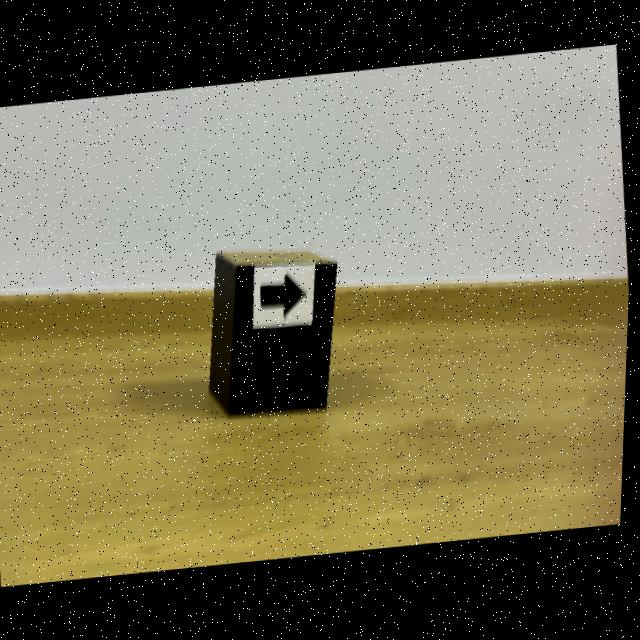RIGHT: (262, 276, 307, 318)
